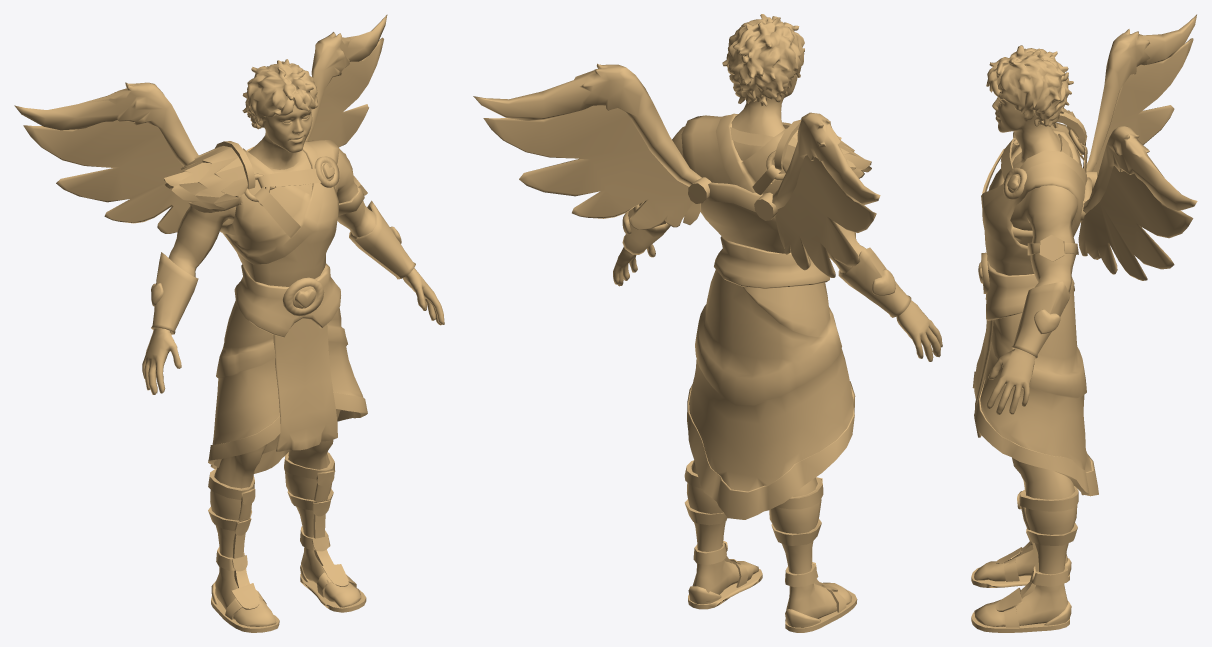
File: Angel Hombre.fbx
The picture shows the model from 3 angles, left to right: view 1: azimuth 30°, elevation 25°; view 2: azimuth 150°, elevation 25°; view 3: azimuth 270°, elevation 25°; orthographic projection. The views are drawn at different scales.
Visible parts, largest first — view 1: Wolf3D_Hair; view 2: Wolf3D_Hair; view 3: Wolf3D_Hair.
Boxes of the visible parts, bbox=[...] form: Wolf3D_Hair: bbox=[14, 14, 444, 632]; Wolf3D_Hair: bbox=[473, 14, 942, 632]; Wolf3D_Hair: bbox=[971, 14, 1197, 632].
Bounding box in the file's own units: 136 × 186 × 69.38.
8 materials, 8 textured.
